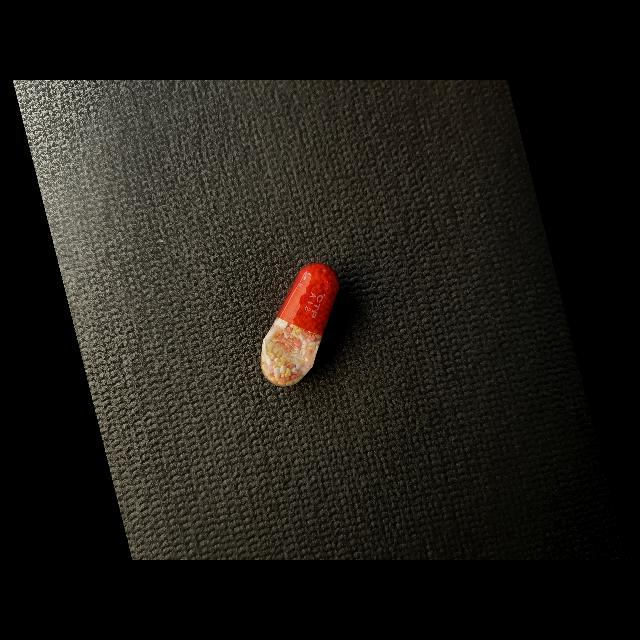Defective Capsule: (261, 263, 339, 386)
